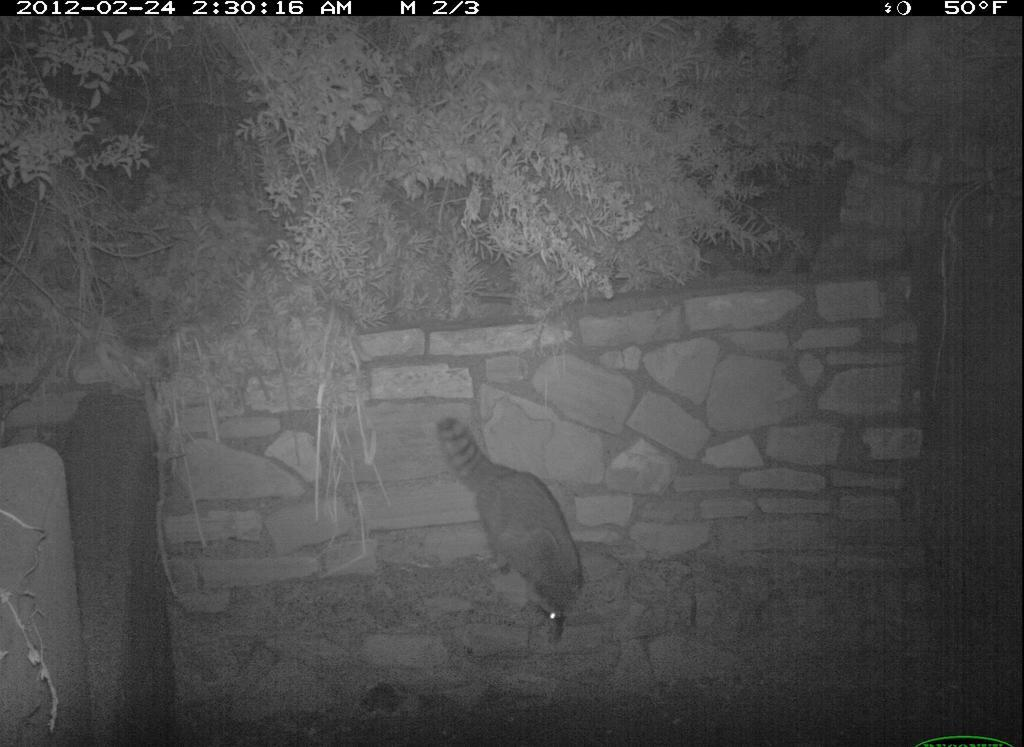raccoon: (417, 400, 609, 644)
